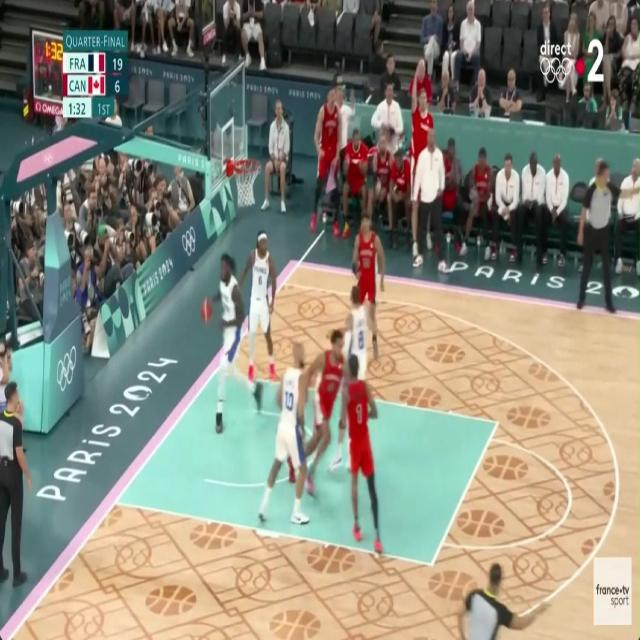ball_handler: (198, 253, 262, 432)
